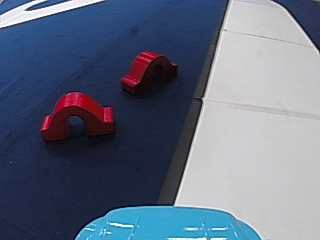bridge: (35, 88, 115, 141), (118, 47, 177, 97)
